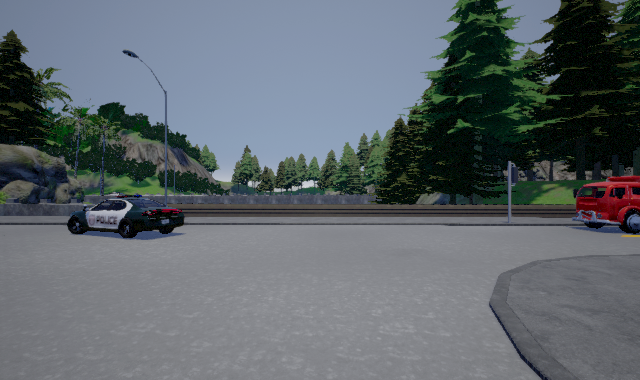vehicle: (67, 192, 185, 238), (572, 176, 640, 234)
